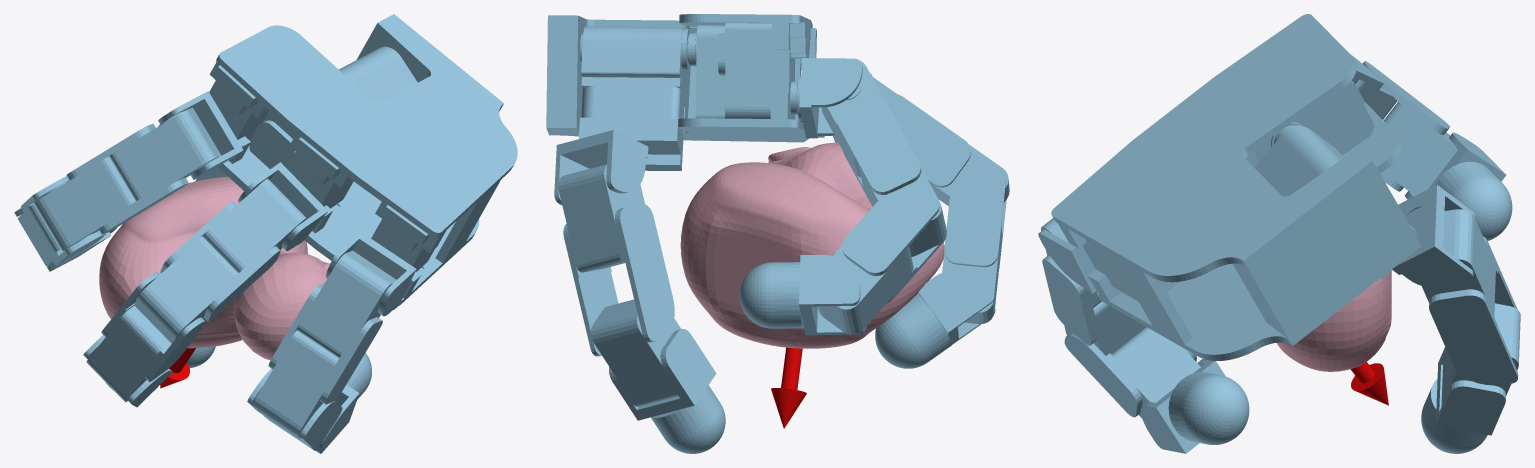
3 renders of one model, left to right at view 1: azimuth 30°, elevation 25°; view 2: azimuth 150°, elevation 25°; view 3: azimuth 270°, elevation 25°, orthographic. The views are drawn at different scales.
Parts seen in each view (by area): view 1: world, rubber_duck.stl; view 2: world, rubber_duck.stl; view 3: world, rubber_duck.stl.
Part boxes in pixels (x1,y1,x2,y2): world: (14, 14, 517, 453); rubber_duck.stl: (99, 176, 330, 360); world: (546, 14, 1009, 453); rubber_duck.stl: (680, 142, 944, 348); world: (1038, 14, 1520, 453); rubber_duck.stl: (1276, 181, 1391, 371).
Size of the model in its own units: 0.187 by 0.1573 by 0.164.
